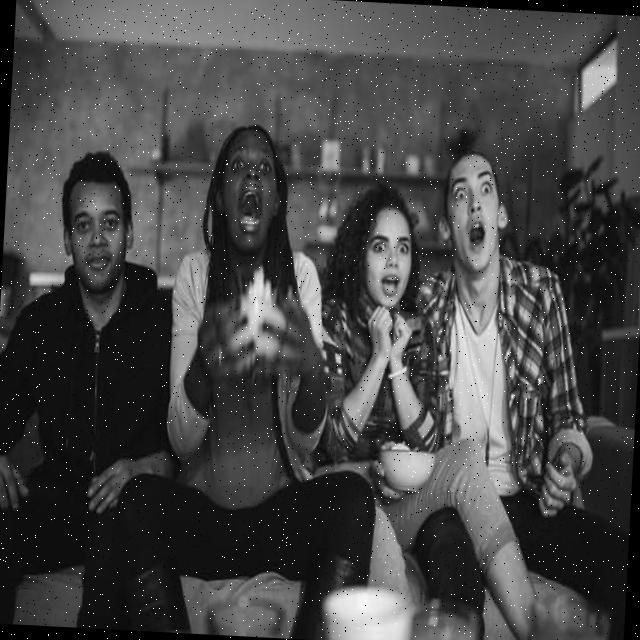Fear: (222, 132, 278, 248)
